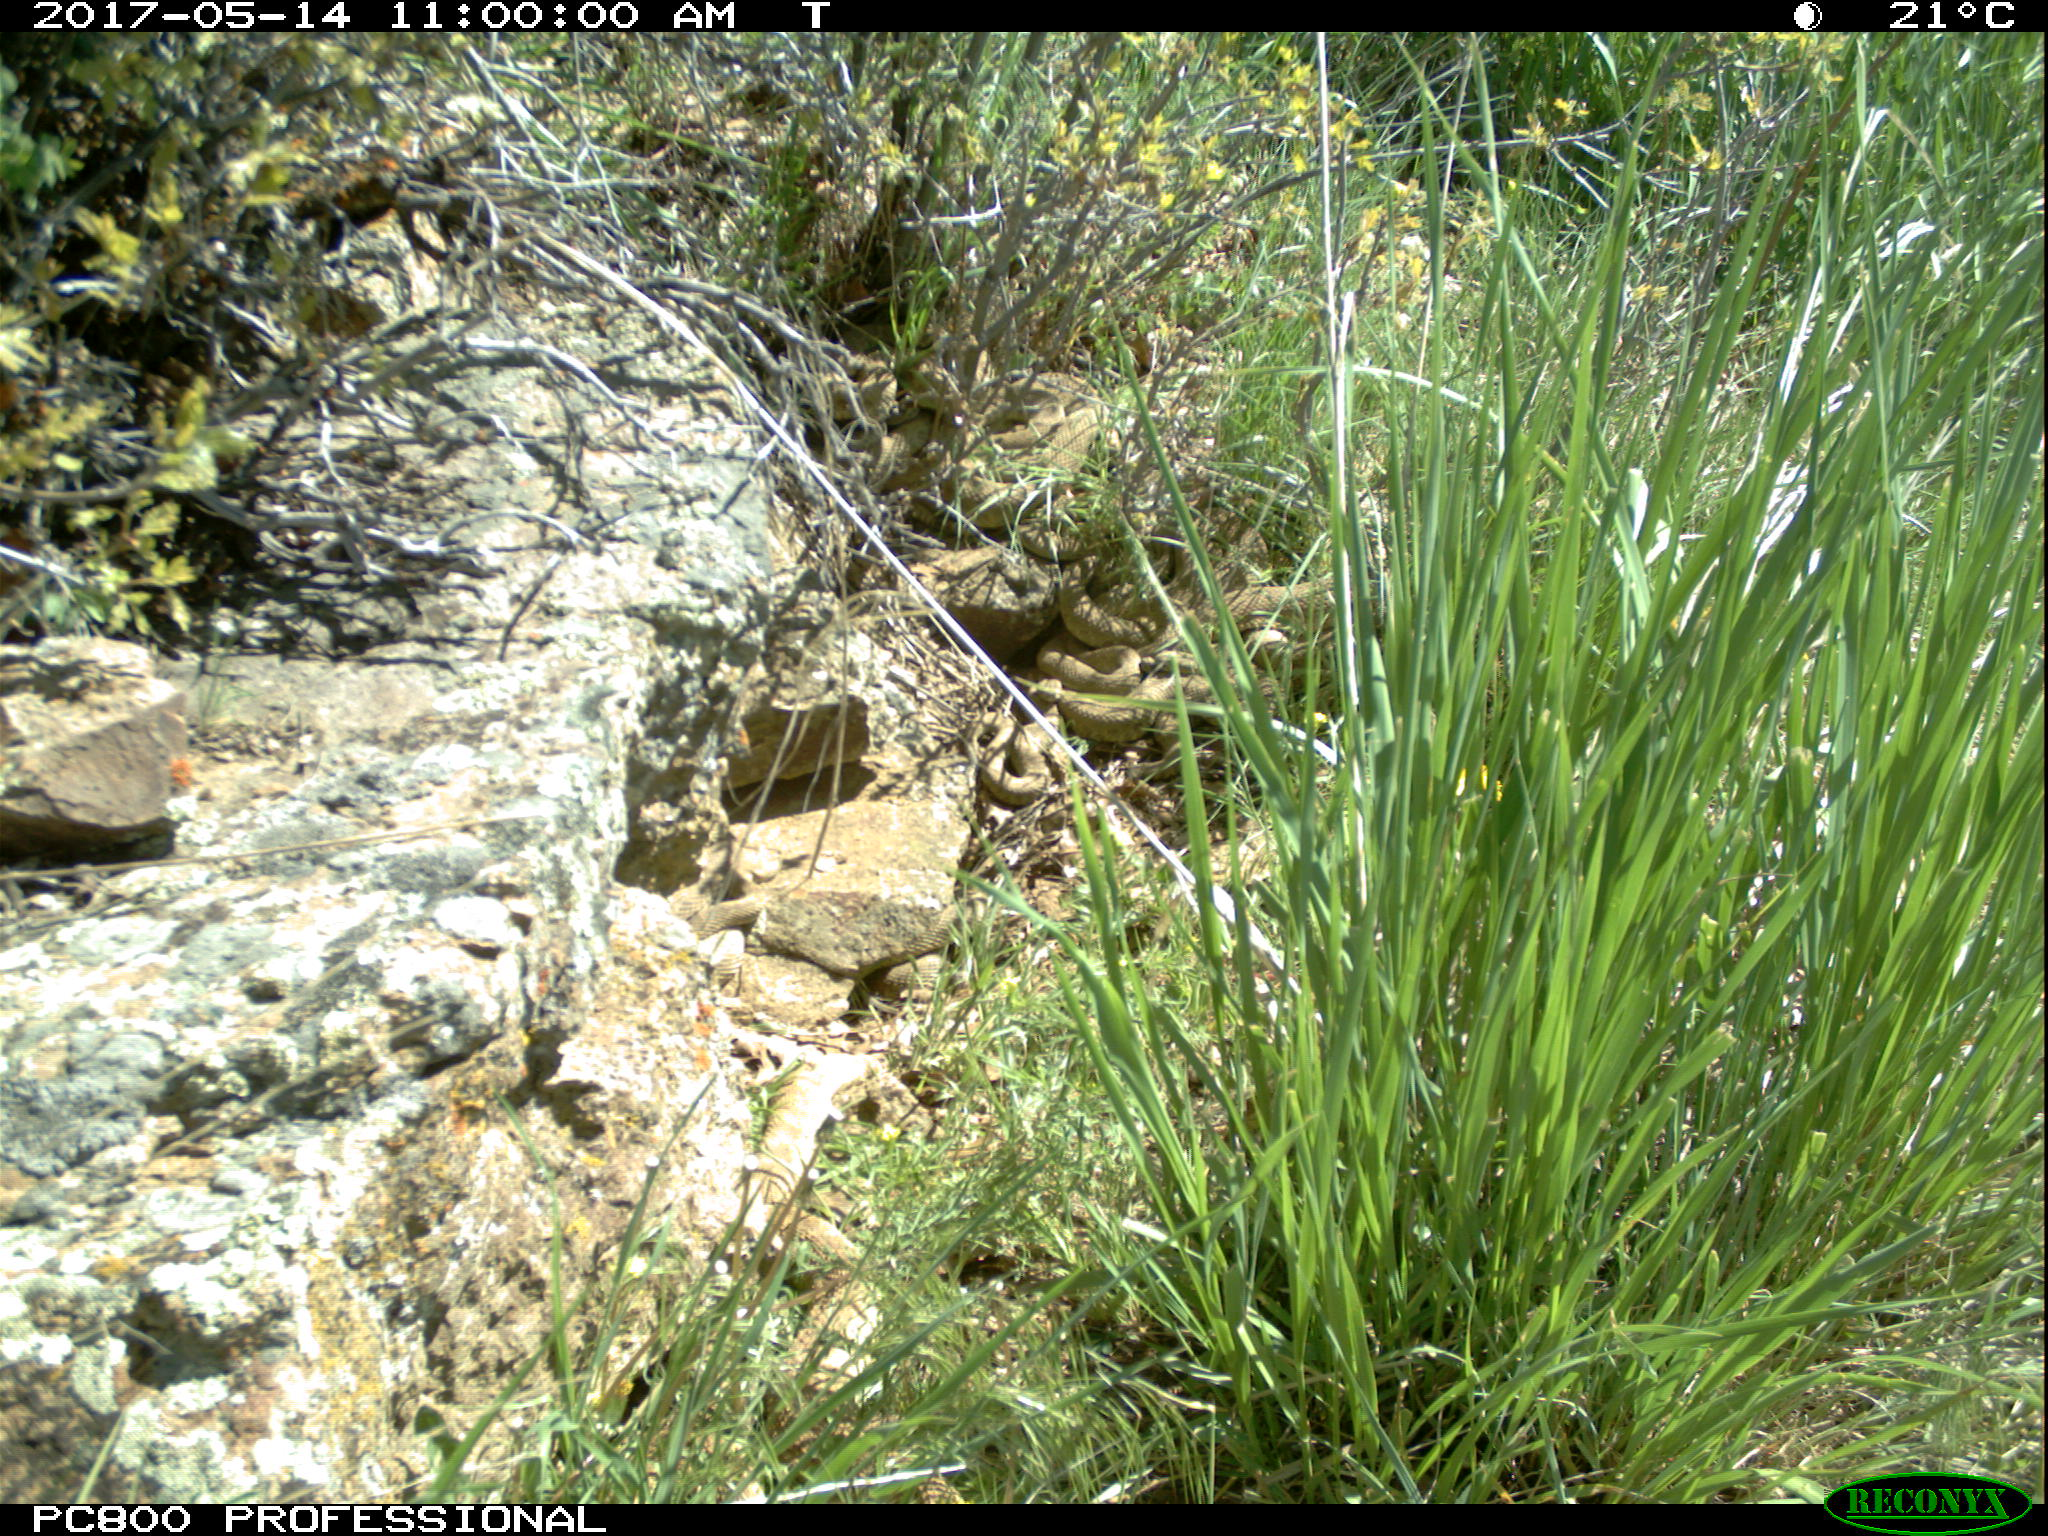snake: (753, 1049, 898, 1386), (821, 352, 992, 508), (971, 371, 1121, 492), (1034, 649, 1193, 745), (1051, 550, 1185, 644), (1185, 566, 1350, 629), (963, 705, 1071, 800), (871, 944, 964, 1002), (672, 878, 763, 931)
